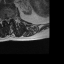CCS_normal: (7, 16, 9, 25)
LFS_stenosis: (11, 15, 13, 21)
LLS_stenosis: (9, 15, 11, 22)
RFS_normal: (2, 16, 4, 22)
RLS_normal: (4, 16, 7, 23)
